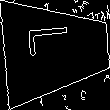L_E: (31, 33, 82, 68)
